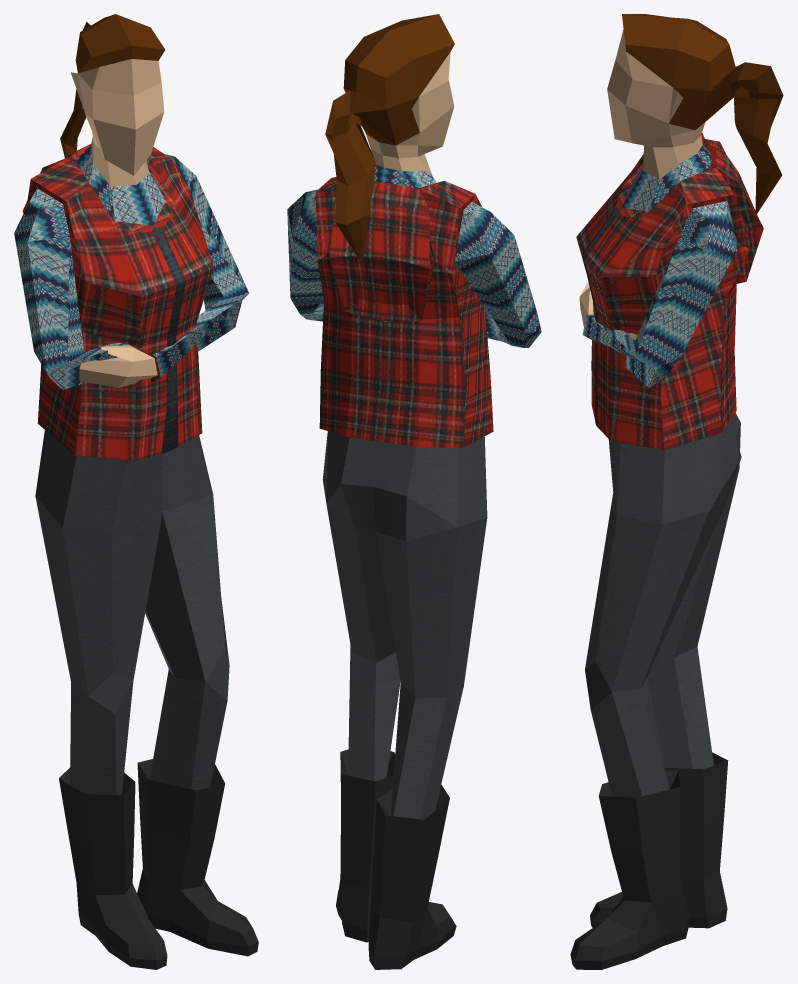
The model's file is AutumnWomanA.009.glb.
The picture shows the model from 3 angles, left to right: view 1: azimuth 30°, elevation 25°; view 2: azimuth 150°, elevation 25°; view 3: azimuth 270°, elevation 25°; orthographic projection. The views are drawn at different scales.
Visible parts, largest first — view 1: AutumnWomanA.009; view 2: AutumnWomanA.009; view 3: AutumnWomanA.009.
Part boxes in pixels (box(x1,y1,x2,y2)): AutumnWomanA.009: box(14, 14, 258, 969); AutumnWomanA.009: box(287, 14, 541, 969); AutumnWomanA.009: box(570, 14, 783, 969).
Bounding box in the file's own units: 0.4341 × 1.71 × 0.3622.
Materials: 1 (1 with a texture image).
